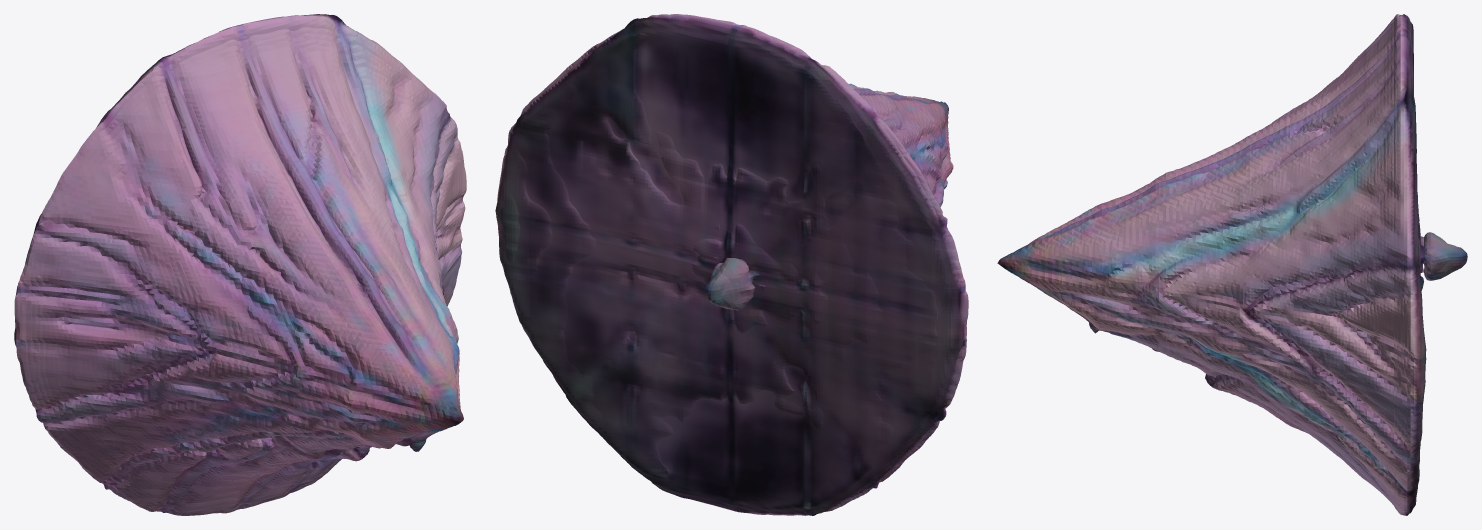
File: triposr_alien_mountain.glb
3 renders of one model, left to right at view 1: azimuth 30°, elevation 25°; view 2: azimuth 150°, elevation 25°; view 3: azimuth 270°, elevation 25°, orthographic. The views are drawn at different scales.
Visible parts, largest first — view 1: geometry_0; view 2: geometry_0; view 3: geometry_0.
Part boxes in pixels (bbox=[...]): geometry_0: bbox=[14, 14, 466, 515]; geometry_0: bbox=[495, 14, 968, 515]; geometry_0: bbox=[997, 14, 1467, 515].
Bounding box in the file's own units: 1.01 × 1.02 × 0.9569.
